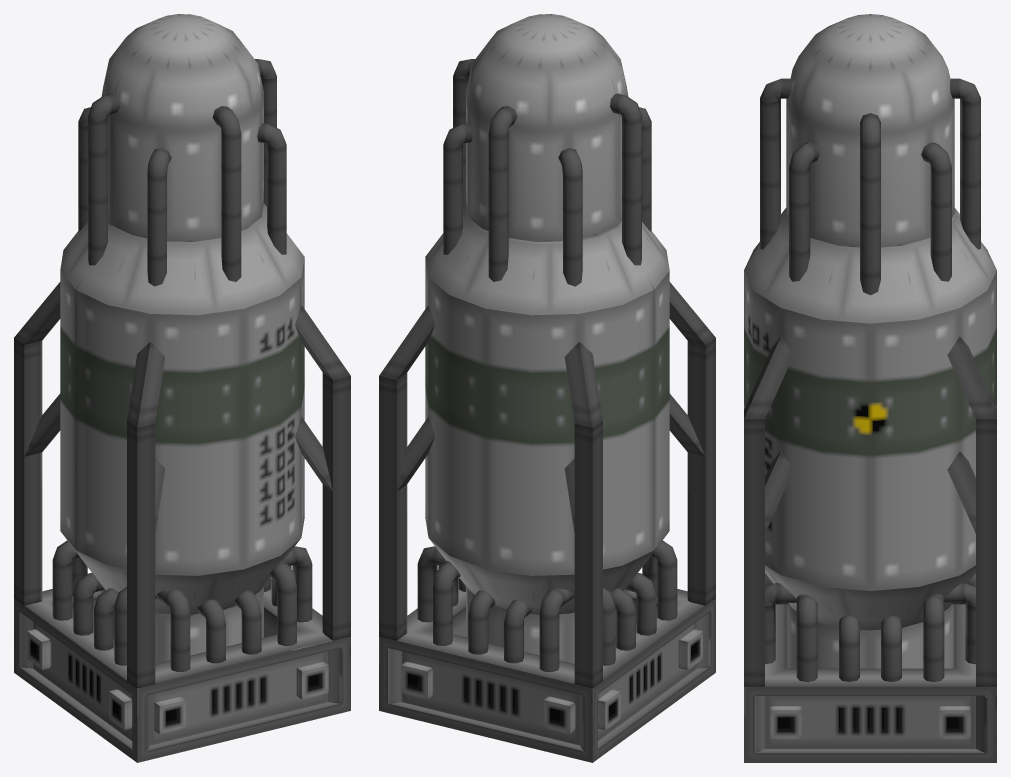
The model's file is vacuum_distill.obj.
3 views of the same model, side by side, from view 1: azimuth 30°, elevation 25°; view 2: azimuth 150°, elevation 25°; view 3: azimuth 270°, elevation 25° (orthographic). The views are drawn at different scales.
Parts seen in each view (by area): view 1: Cylinder; view 2: Cylinder; view 3: Cylinder.
Part boxes in pixels (x1=…): Cylinder: x1=14, y1=14, x2=350, y2=762; Cylinder: x1=379, y1=14, x2=715, y2=762; Cylinder: x1=744, y1=14, x2=996, y2=762.
Bounding box in the file's own units: 3 × 9 × 3.
